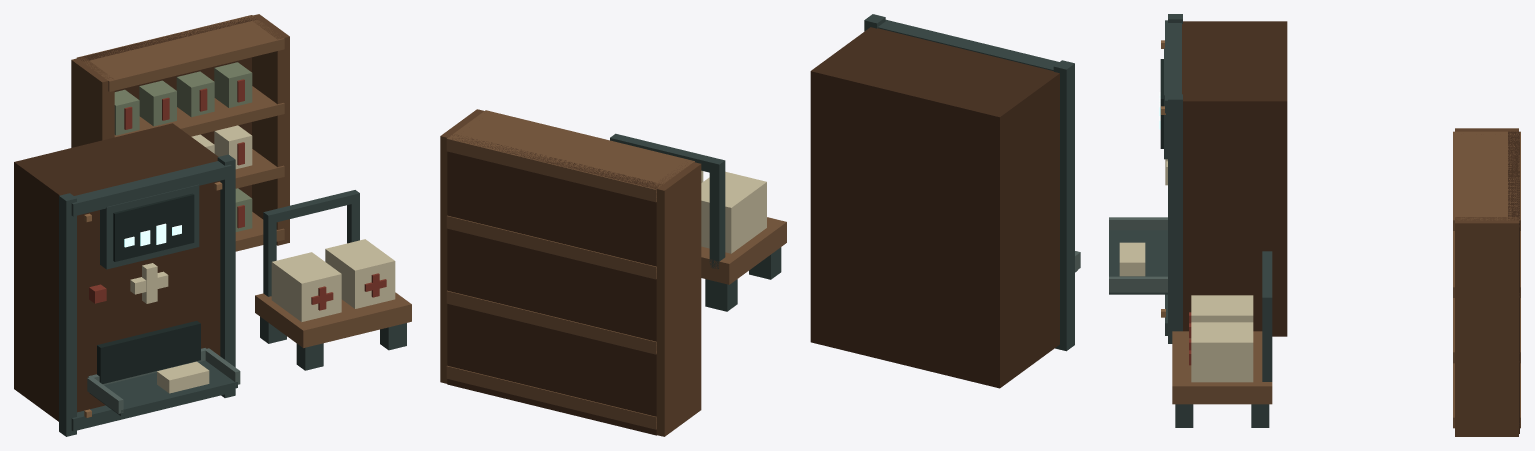
File: B25_first_aid.glb
The picture shows the model from 3 angles, left to right: view 1: azimuth 30°, elevation 25°; view 2: azimuth 150°, elevation 25°; view 3: azimuth 270°, elevation 25°; orthographic projection. The views are drawn at different scales.
Visible parts, largest first — view 1: B25_first_aid__main_station_CabinetBody_wooddark, B25_first_aid__main_station_CabinetEdge_iron, B25_first_aid__stock_ShelfBoard_woodlight, B25_first_aid__stock_ShelfUpright_wood, B25_first_aid__service_cart_MedicalCase_bone, B25_first_aid__stock_MedicalPack_cloth, B25_first_aid__main_station_DispensingPort_black, B25_first_aid__service_cart_CartBed_woodlight, B25_first_aid__main_station_Screen_black, B25_first_aid__main_station_Tray_iron, B25_first_aid__service_cart_CartHandle_iron, B25_first_aid__main_station_ScreenFrame_iron (+9 smaller); view 2: B25_first_aid__main_station_CabinetBody_wooddark, B25_first_aid__stock_ShelfBack_wooddark, B25_first_aid__stock_ShelfBoard_woodlight, B25_first_aid__stock_ShelfUpright_wood, B25_first_aid__main_station_CabinetEdge_iron, B25_first_aid__service_cart_MedicalCase_bone, B25_first_aid__service_cart_CartHandle_iron, B25_first_aid__service_cart_CartBed_woodlight, B25_first_aid__service_cart_CartWheel_iron; view 3: B25_first_aid__main_station_CabinetBody_wooddark, B25_first_aid__stock_ShelfUpright_wood, B25_first_aid__stock_ShelfBoard_woodlight, B25_first_aid__service_cart_MedicalCase_bone, B25_first_aid__main_station_CabinetEdge_iron, B25_first_aid__service_cart_CartBed_woodlight, B25_first_aid__main_station_Tray_iron, B25_first_aid__main_station_TrayRim_edge, B25_first_aid__service_cart_CartHandle_iron, B25_first_aid__stock_ShelfBack_wooddark, B25_first_aid__main_station_Bandage_bone, B25_first_aid__service_cart_CartWheel_iron.
Part boxes in pixels (x1,y1,x2,y2): B25_first_aid__main_station_CabinetBody_wooddark: [14, 123, 220, 421]; B25_first_aid__main_station_CabinetEdge_iron: [59, 154, 235, 436]; B25_first_aid__stock_ShelfBoard_woodlight: [76, 15, 284, 251]; B25_first_aid__stock_ShelfUpright_wood: [71, 14, 289, 245]; B25_first_aid__service_cart_MedicalCase_bone: [271, 239, 395, 321]; B25_first_aid__stock_MedicalPack_cloth: [114, 62, 252, 231]; B25_first_aid__main_station_DispensingPort_black: [97, 321, 200, 383]; B25_first_aid__service_cart_CartBed_woodlight: [255, 292, 411, 347]; B25_first_aid__main_station_Screen_black: [113, 193, 194, 261]; B25_first_aid__main_station_Tray_iron: [89, 360, 237, 416]; B25_first_aid__service_cart_CartHandle_iron: [263, 190, 359, 296]; B25_first_aid__main_station_ScreenFrame_iron: [100, 184, 199, 269]; B25_first_aid__main_station_CabinetBody_wooddark: [810, 27, 1059, 388]; B25_first_aid__stock_ShelfBack_wooddark: [447, 135, 662, 435]; B25_first_aid__stock_ShelfBoard_woodlight: [446, 110, 694, 429]; B25_first_aid__stock_ShelfUpright_wood: [440, 109, 701, 436]; B25_first_aid__main_station_CabinetEdge_iron: [864, 14, 1074, 351]; B25_first_aid__service_cart_MedicalCase_bone: [701, 170, 766, 253]; B25_first_aid__service_cart_CartHandle_iron: [610, 133, 725, 268]; B25_first_aid__service_cart_CartBed_woodlight: [701, 217, 786, 284]; B25_first_aid__service_cart_CartWheel_iron: [705, 247, 781, 311]; B25_first_aid__main_station_CabinetBody_wooddark: [1182, 21, 1287, 336]; B25_first_aid__stock_ShelfUpright_wood: [1455, 128, 1518, 436]; B25_first_aid__stock_ShelfBoard_woodlight: [1453, 131, 1520, 428]; B25_first_aid__service_cart_MedicalCase_bone: [1191, 295, 1253, 382]; B25_first_aid__main_station_CabinetEdge_iron: [1165, 14, 1182, 343]; B25_first_aid__service_cart_CartBed_woodlight: [1172, 331, 1272, 404]; B25_first_aid__main_station_Tray_iron: [1109, 230, 1167, 294]; B25_first_aid__main_station_TrayRim_edge: [1109, 217, 1167, 292]; B25_first_aid__service_cart_CartHandle_iron: [1262, 251, 1272, 381]; B25_first_aid__stock_ShelfBack_wooddark: [1508, 131, 1519, 433]; B25_first_aid__main_station_Bandage_bone: [1119, 242, 1145, 276]; B25_first_aid__service_cart_CartWheel_iron: [1175, 404, 1269, 427].
Bounding box in the file's own units: 4.34 × 2.7 × 4.13.
